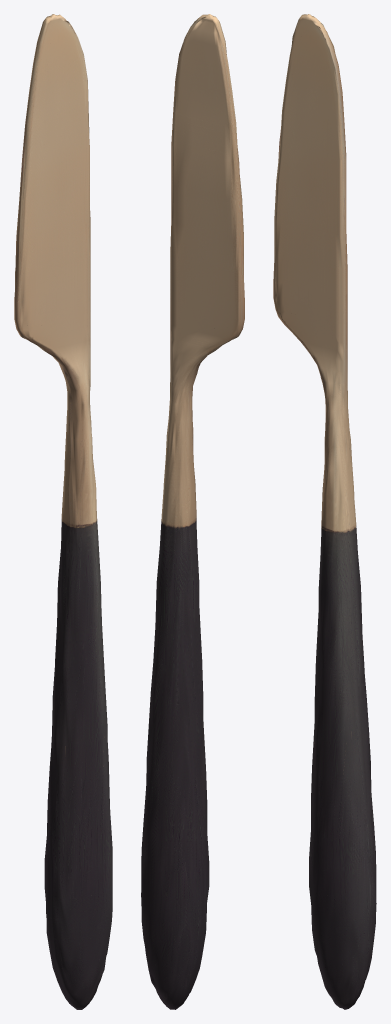
Rendered from Velo_Gold_and_Black_Dinner_knife_0225003320_texture.glb.
3 views of the same model, side by side, from view 1: azimuth 30°, elevation 25°; view 2: azimuth 150°, elevation 25°; view 3: azimuth 330°, elevation 25° (orthographic).
Parts seen in each view (by area): view 1: Mesh_0.001; view 2: Mesh_0.001; view 3: Mesh_0.001.
Boxes of the visible parts, box(x1,y1,x2,y2) form: Mesh_0.001: box(14, 14, 112, 1009); Mesh_0.001: box(141, 14, 244, 1009); Mesh_0.001: box(273, 14, 376, 1009).
Size of the model in its own units: 0.0204 by 0.2032 by 0.0104.
1 material, 1 textured.
